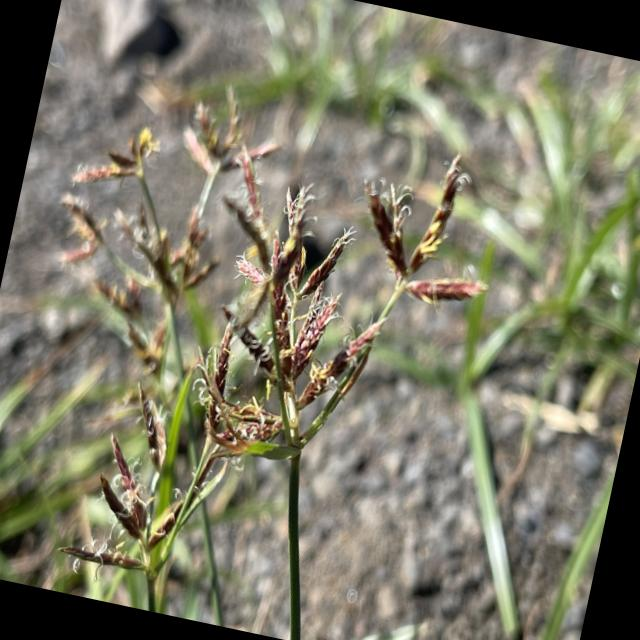cyperus: (161, 106, 512, 540), (46, 55, 256, 371), (44, 366, 250, 616)
